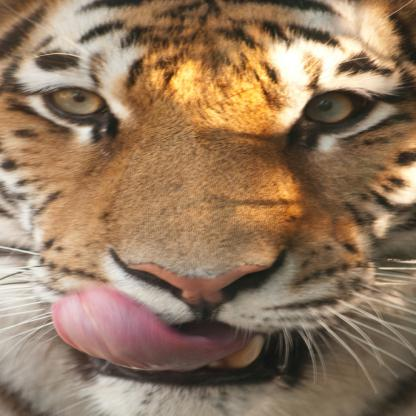tiger: (0, 2, 415, 415)
